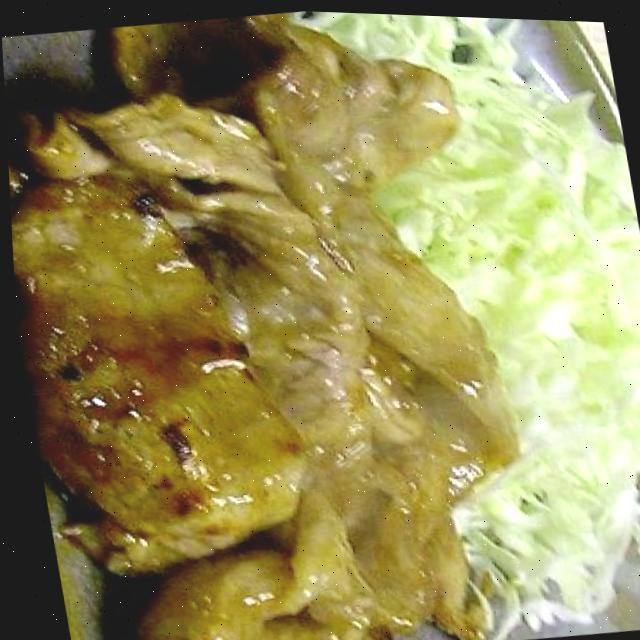猪肉菜式: (0, 0, 587, 640)
